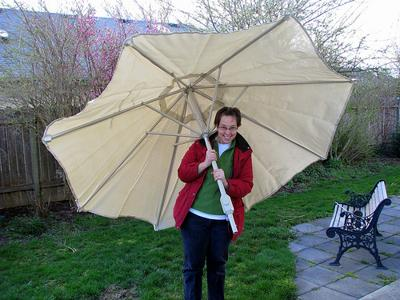person: (172, 107, 254, 300)
